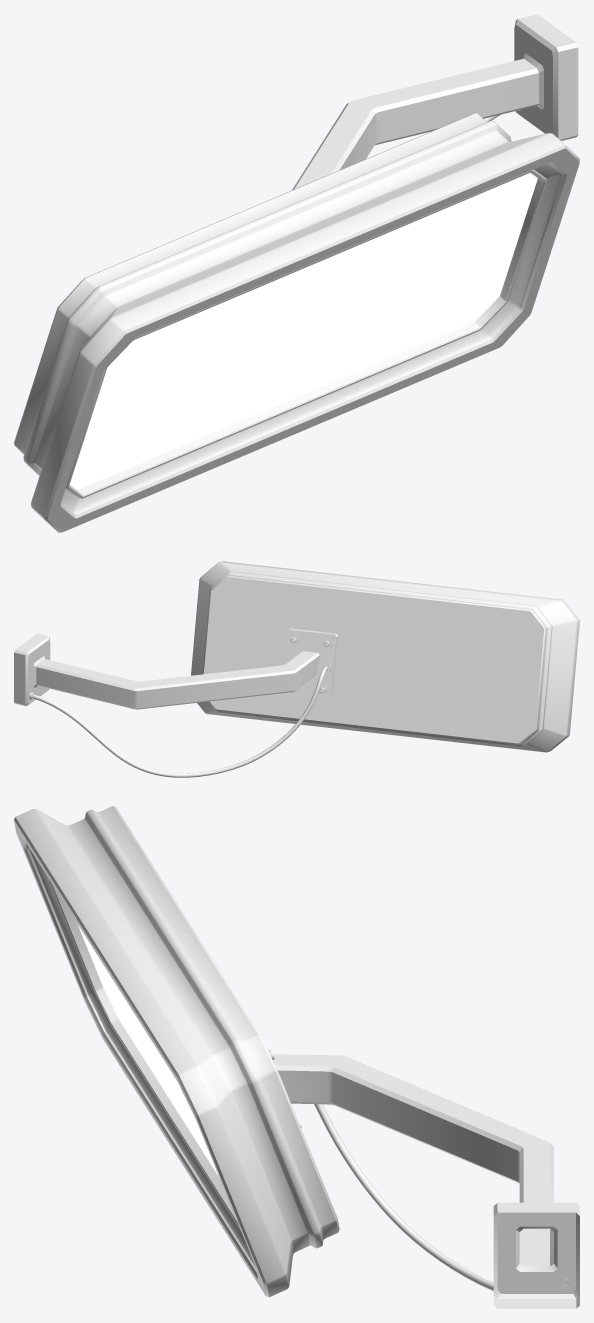
File: KB3D_FTW_PropSign_C_grp.glb
3 renders of one model, top to bottom at view 1: azimuth 30°, elevation 25°; view 2: azimuth 150°, elevation 25°; view 3: azimuth 270°, elevation 25°, orthographic. The views are drawn at different scales.
Parts seen in each view (by area): view 1: KB3D_FTW_PropSign_C_Main; view 2: KB3D_FTW_PropSign_C_Main; view 3: KB3D_FTW_PropSign_C_Main.
Boxes of the visible parts, box(x1,y1,x2,y2) form: KB3D_FTW_PropSign_C_Main: box(14, 14, 579, 532); KB3D_FTW_PropSign_C_Main: box(14, 561, 579, 777); KB3D_FTW_PropSign_C_Main: box(14, 806, 579, 1308).
Bounding box in the file's own units: 2.18 × 0.7491 × 1.42.
Materials: 5 (1 with a texture image).
